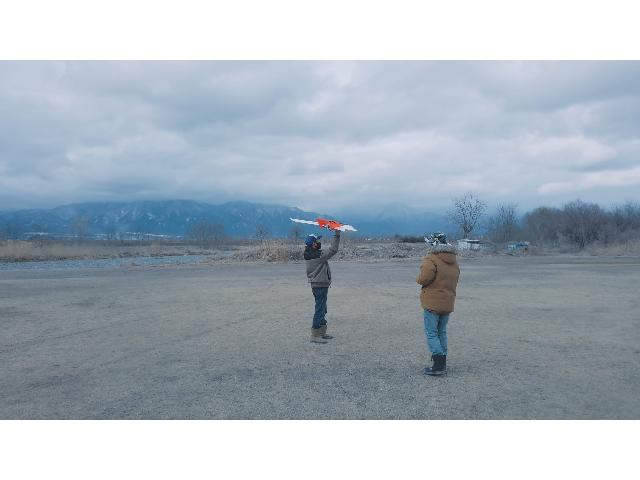Anti-Drone: (285, 213, 361, 234)
